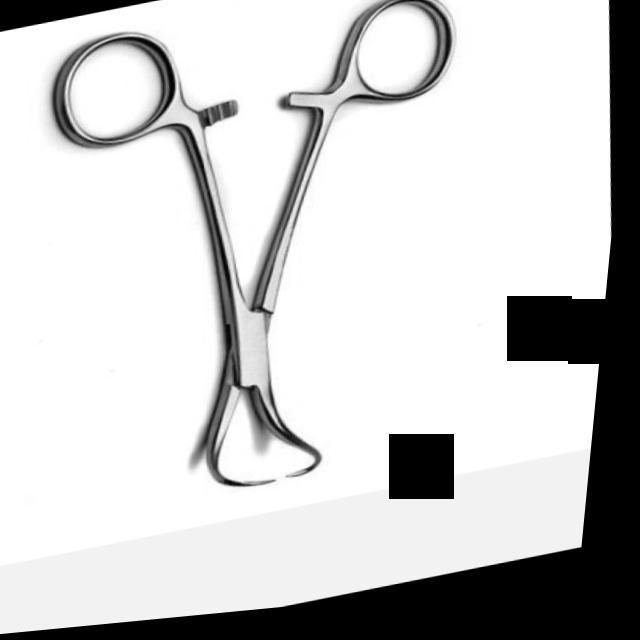Backhaus Towel Clamp: (12, 0, 522, 542)
